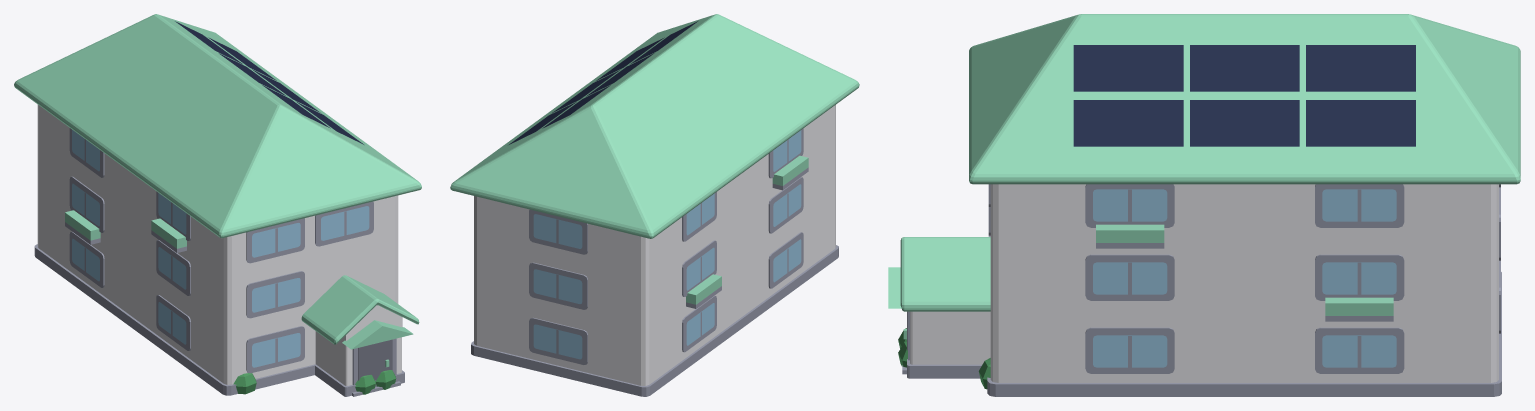
File: house-1x2-3f-mansard-a-solar.glb
3 views of the same model, side by side, from view 1: azimuth 30°, elevation 25°; view 2: azimuth 150°, elevation 25°; view 3: azimuth 270°, elevation 25° (orthographic). The views are drawn at different scales.
Parts seen in each view (by area): view 1: house-1x2-3f-mansard-a-solar; view 2: house-1x2-3f-mansard-a-solar; view 3: house-1x2-3f-mansard-a-solar.
Part boxes in pixels (<box>): house-1x2-3f-mansard-a-solar: <box>14,14,421,396</box>; house-1x2-3f-mansard-a-solar: <box>450,14,859,396</box>; house-1x2-3f-mansard-a-solar: <box>888,14,1520,396</box>.
Size of the model in its own units: 1 by 1.16 by 2.04.
1 material, 1 textured.
